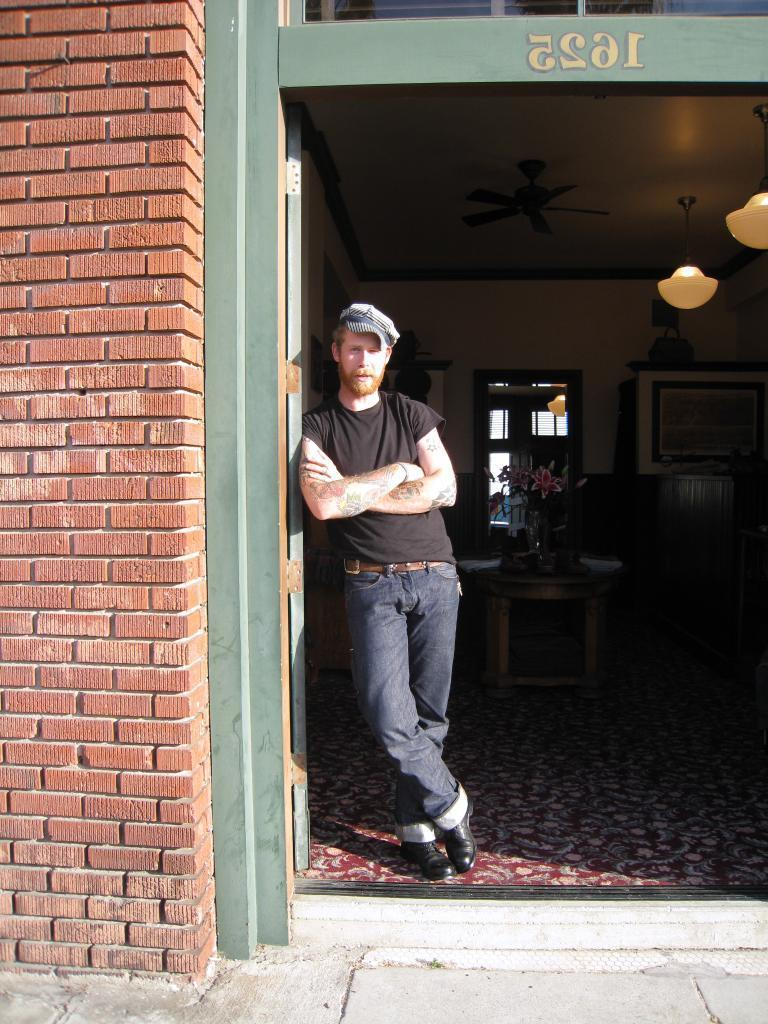door: (287, 164, 315, 846)
